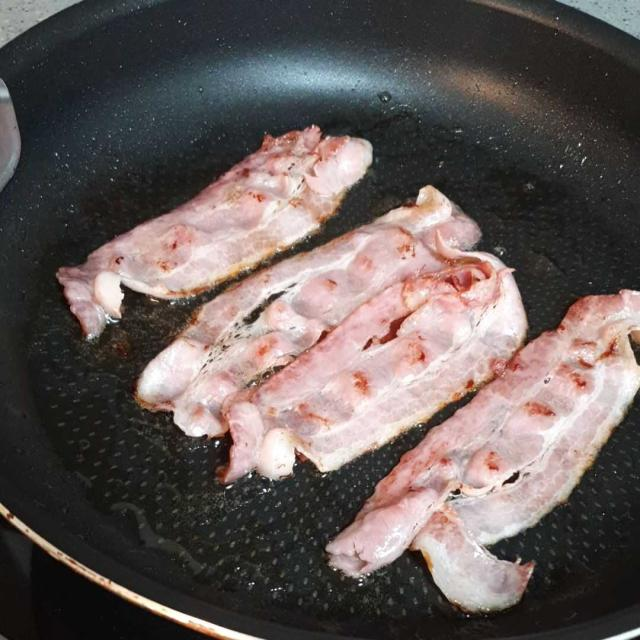bacon: (51, 118, 640, 618)
